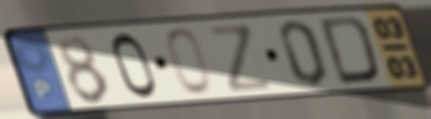0: (162, 25, 219, 99), (277, 17, 332, 90), (110, 31, 159, 101)
8: (55, 33, 112, 105)
D: (316, 13, 383, 88)
Z: (205, 22, 278, 95)
